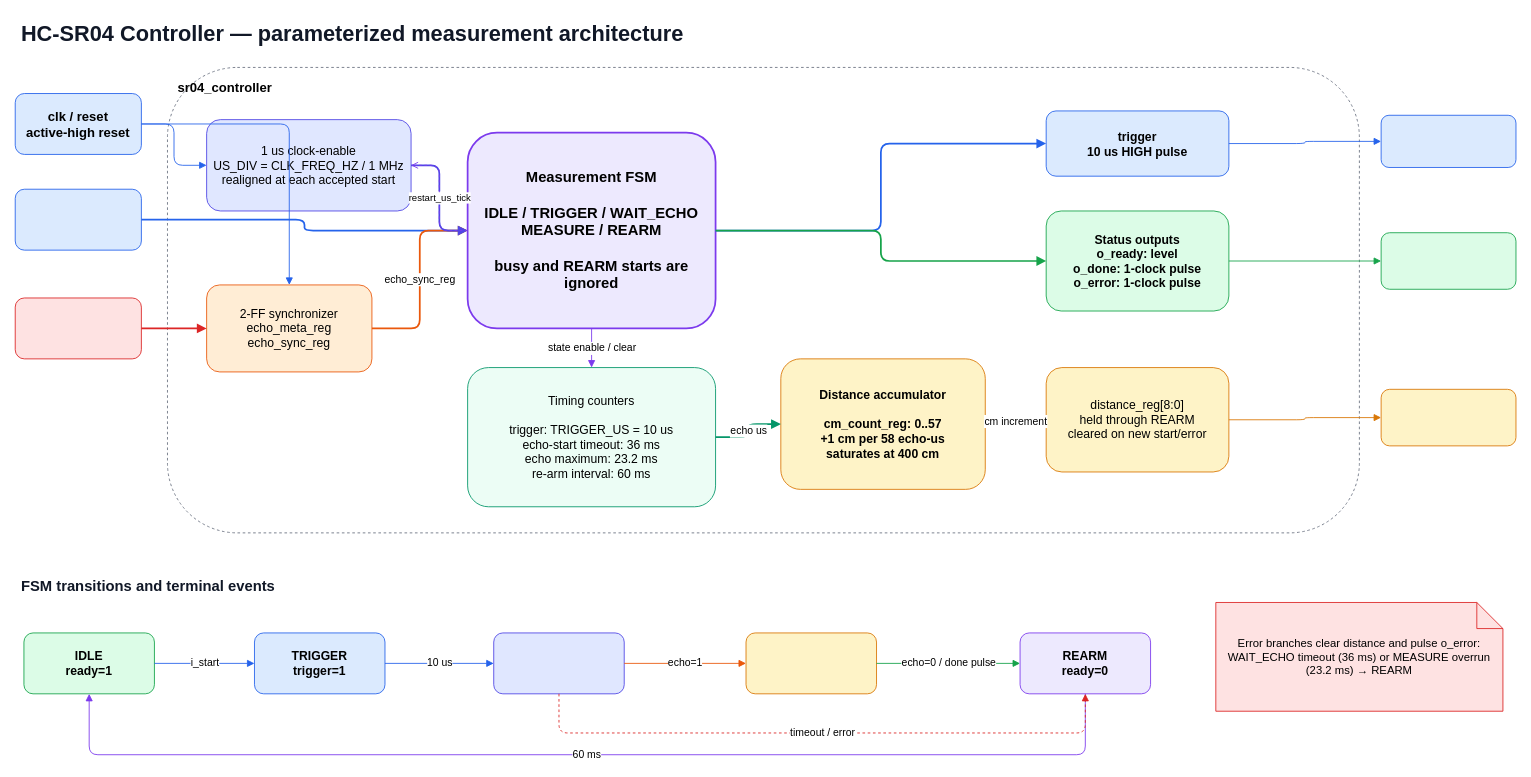
Image size: 1531x777. Some labels were removed from this diagram. The centre of each missing label's shape, as x and y in pixels:
distance[8:0]: (1448,417)
echo asynchronous input: (77,328)
HC-SR04 TRIG: (1448,140)
i_start accepted only in IDLE: (77,219)
MEASURE 58 us/cm: (811,663)
ready / done / error: (1448,260)
WAIT_ECHO: (558,663)
